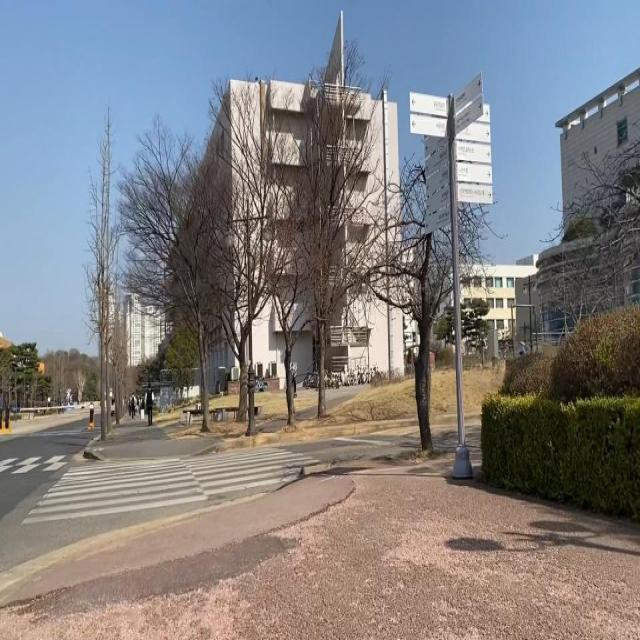sidewalk: (0, 447, 640, 640), (88, 415, 244, 457)
